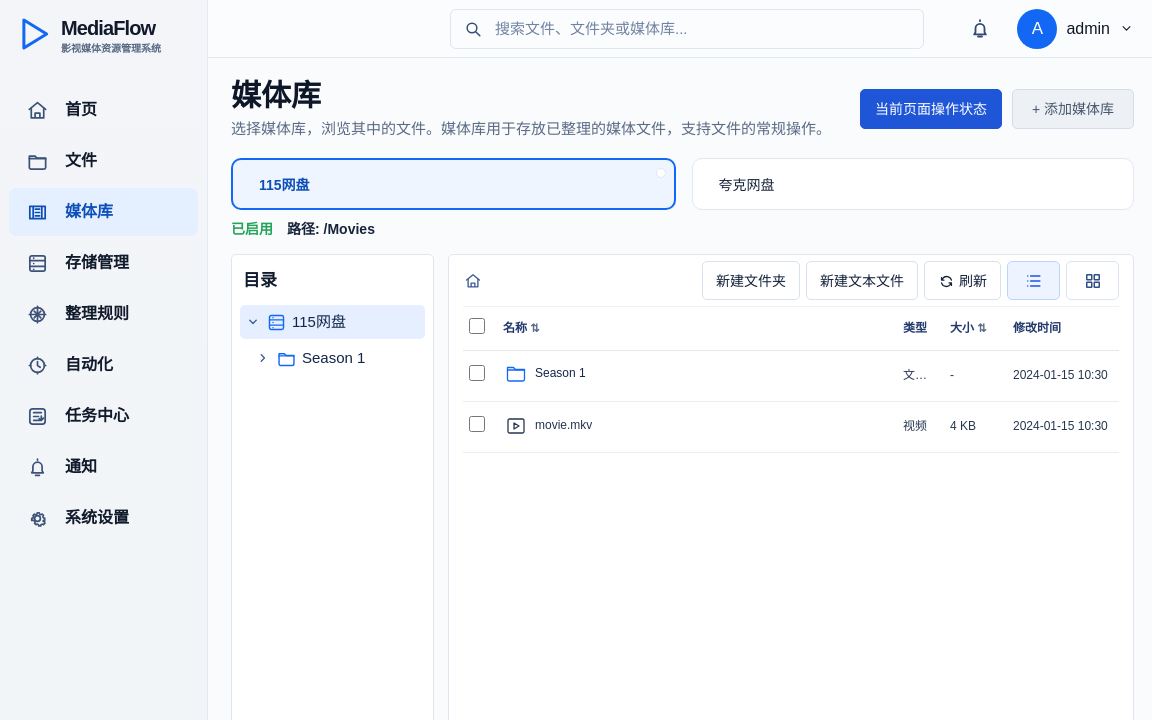
it: MediaLibrary bounded Copy/Move transfer › keeps the entered context after a denied admission with zero resubmission
Expected: the heading "媒体库" is shown, [231,79,321,112]
Expected: the table is shown, [463,307,1119,452]
Click the checkbox named "选择 movie.mkv" at (477, 424), box [469,416,485,432]
(page scrolled)
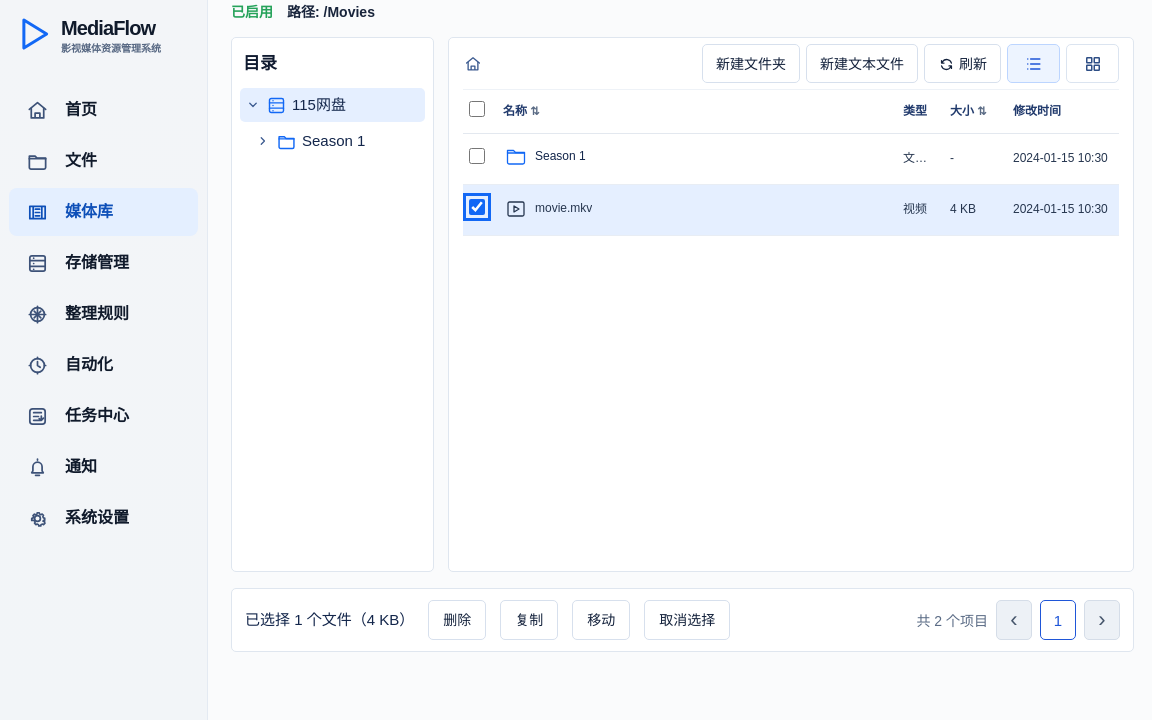
Click the button "复制" at (529, 620), box [500,600,558,640]
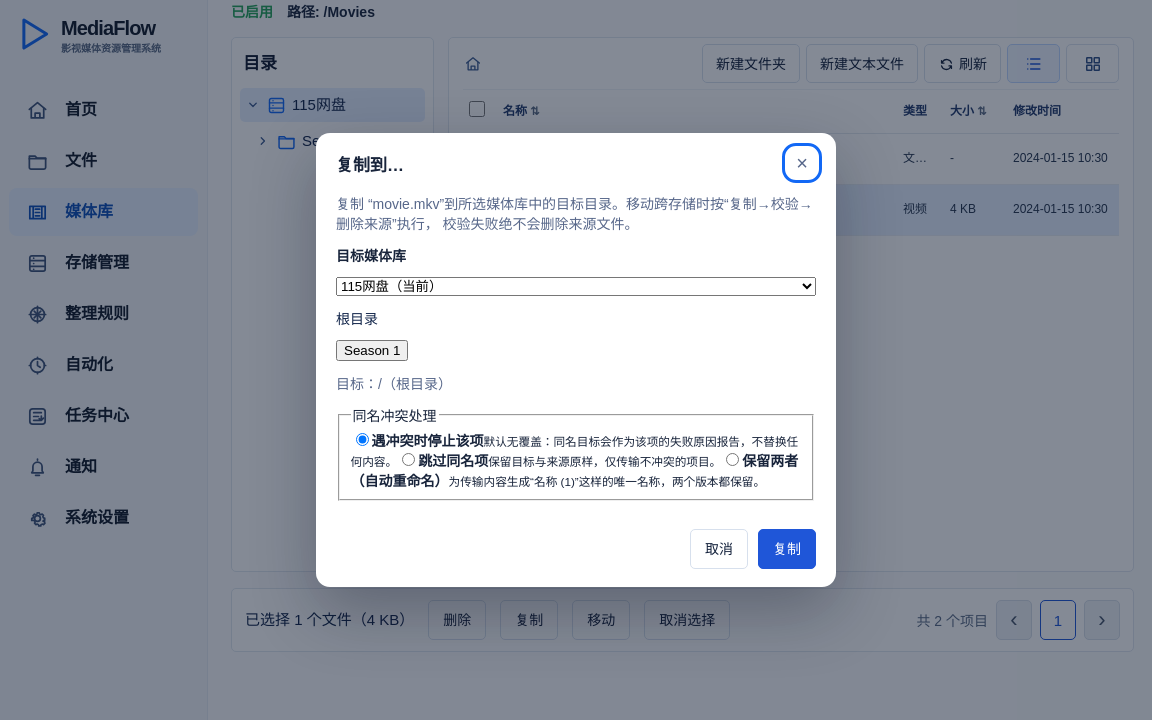
Select "夸克网盘" in the dropdown labelled "目标媒体库" at (576, 287), box [336,277,816,296]
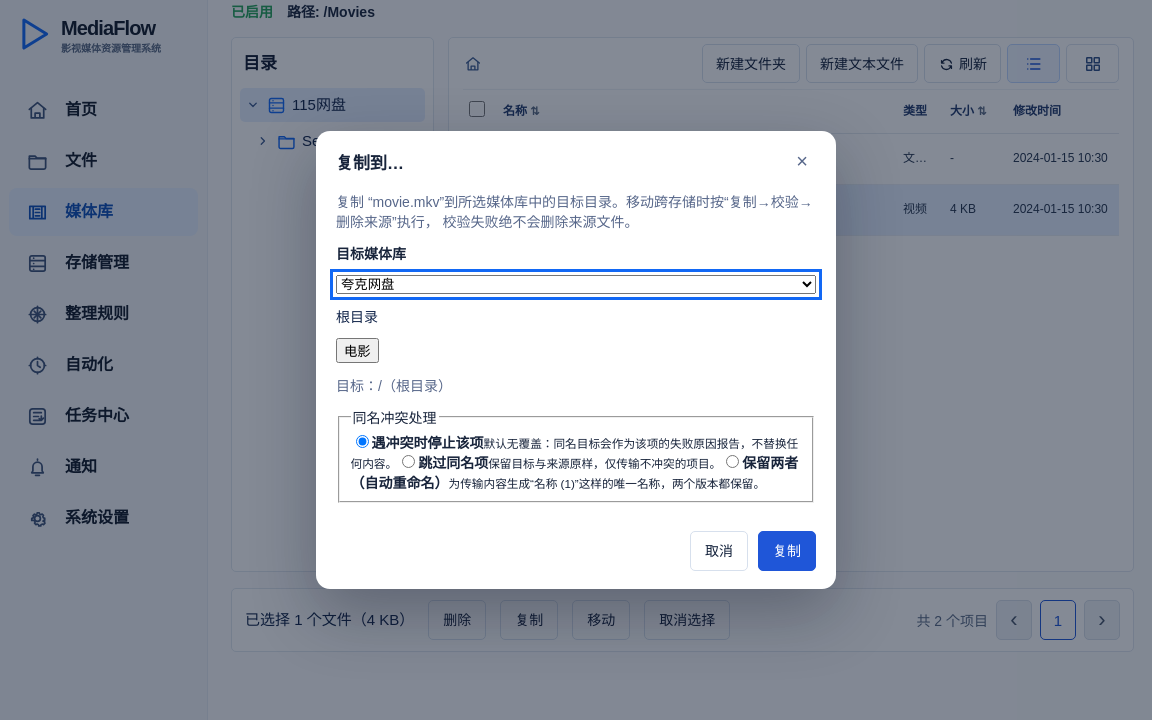
Click the button "复制" at (787, 551), box [758,531,816,571]
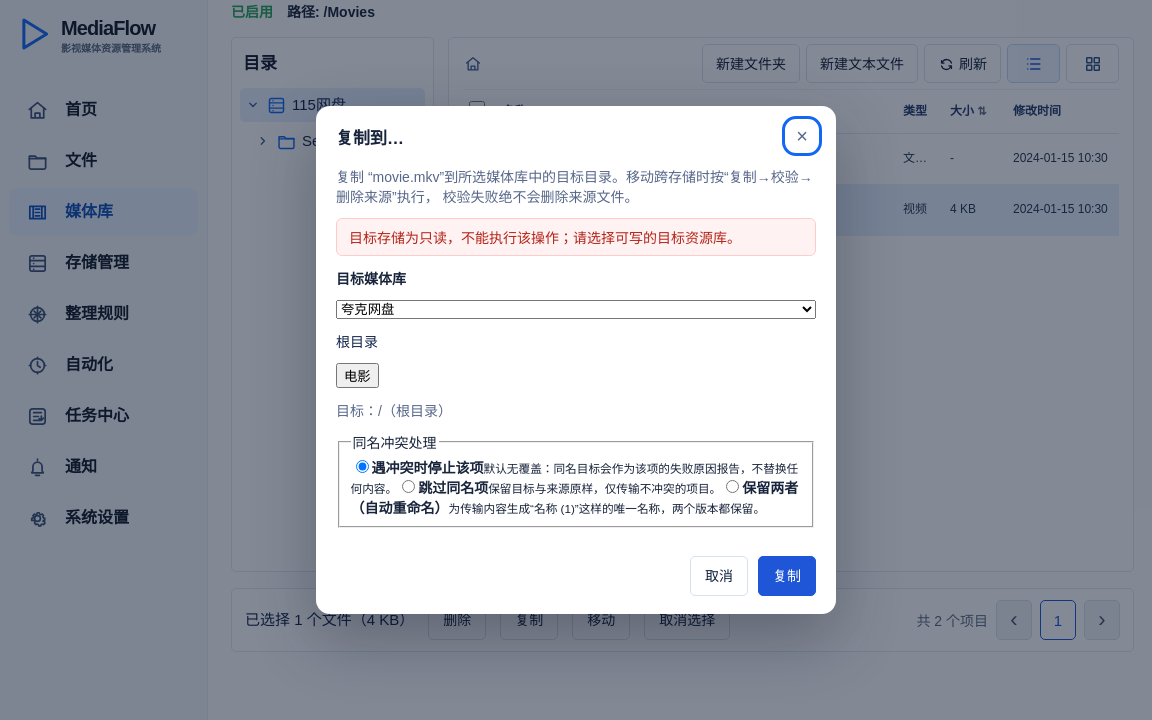
Result: the dropdown labelled "目标媒体库" is enabled at [336,300,816,319]
Result: the button "复制" is enabled at [758,556,816,596]
Result: the text "目标存储为只读，不能执行该操作；请选择可写的目标资源库。" is shown at [336,218,816,256]
